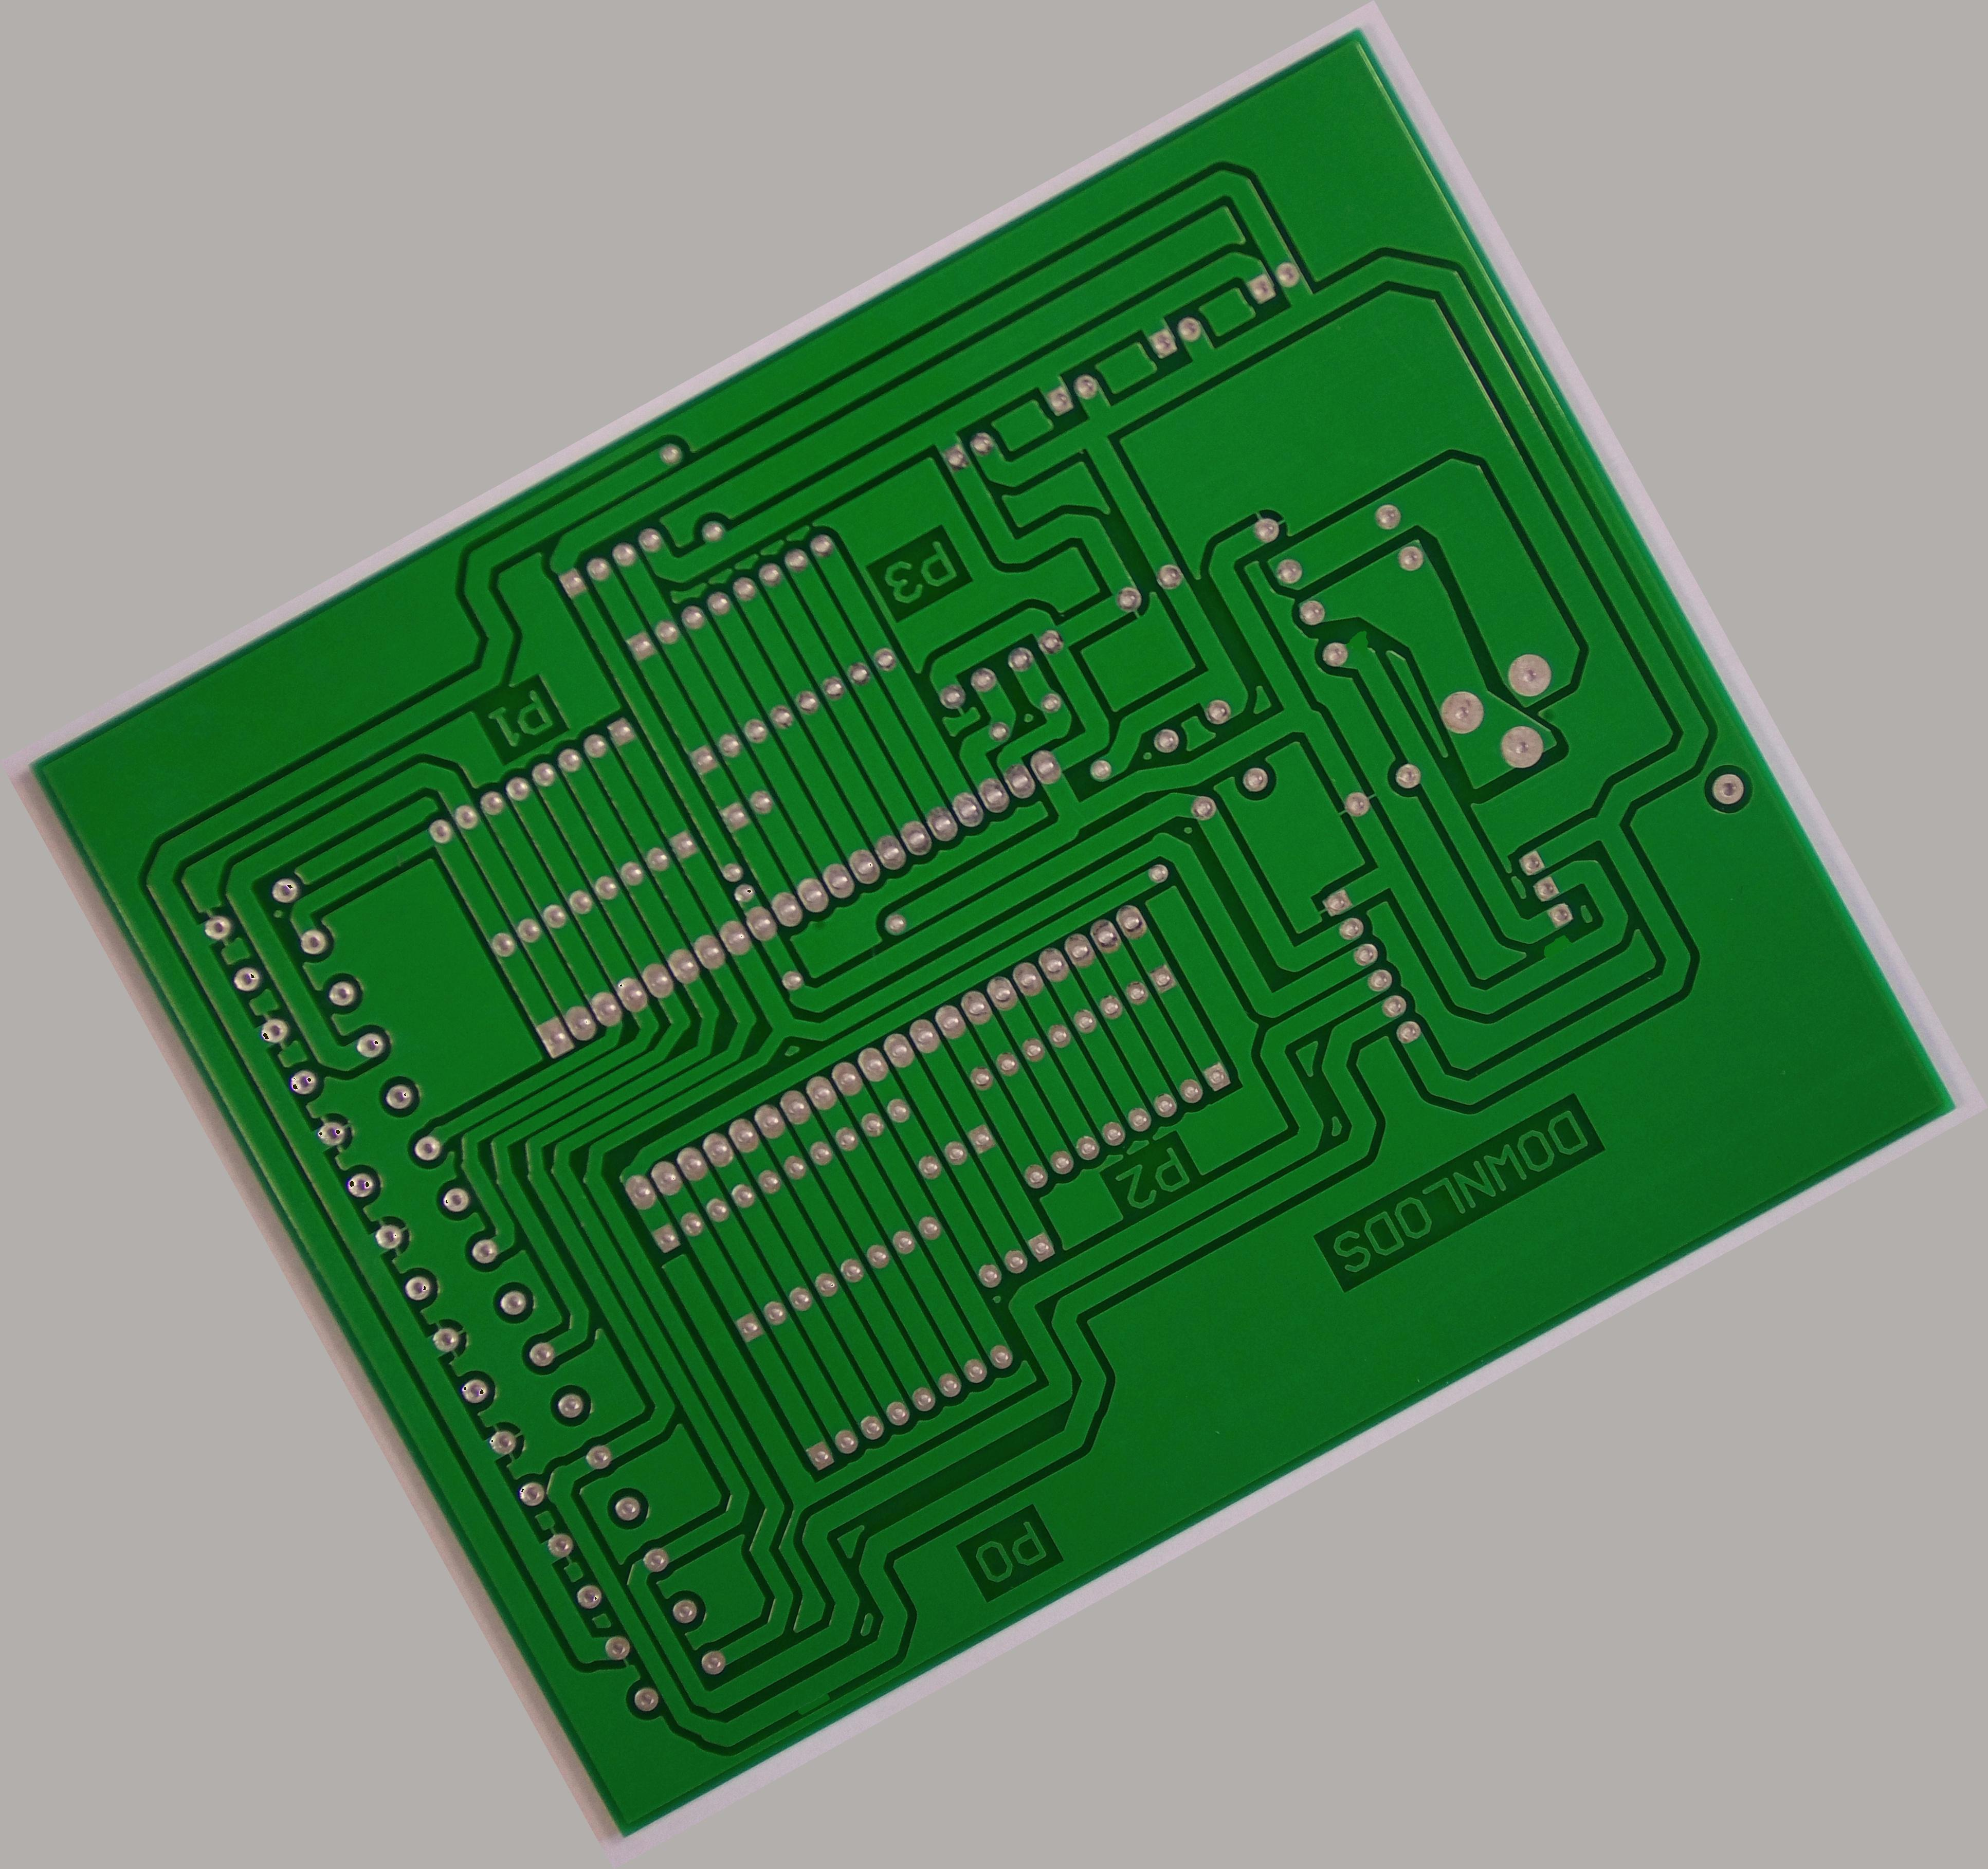spur: (1333, 615, 1386, 669), (1528, 924, 1586, 973), (785, 1679, 839, 1723)
